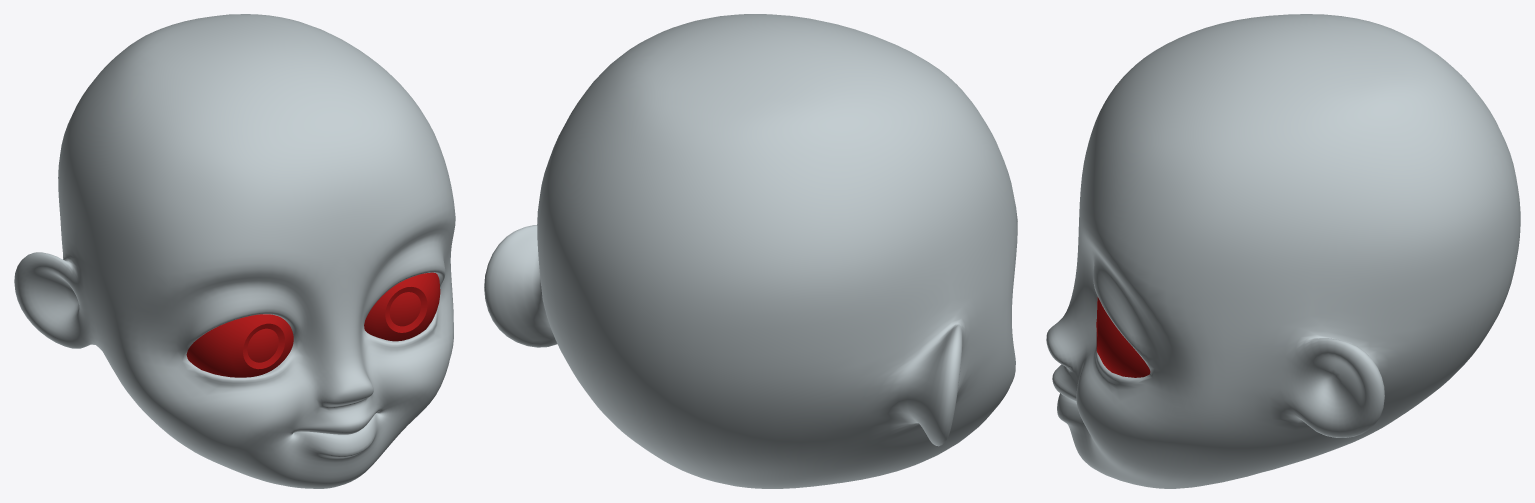
Rendered from head.obj.
3 views of the same model, side by side, from view 1: azimuth 30°, elevation 25°; view 2: azimuth 150°, elevation 25°; view 3: azimuth 270°, elevation 25° (orthographic). The views are drawn at different scales.
Parts seen in each view (by area): view 1: Plane02, eye_right, eye_left; view 2: Plane02; view 3: Plane02, eye_left.
Part boxes in pixels (<box>): Plane02: <box>14,14,455,488</box>; eye_right: <box>186,314,293,377</box>; eye_left: <box>364,272,440,341</box>; Plane02: <box>484,14,1017,488</box>; Plane02: <box>1046,14,1520,488</box>; eye_left: <box>1096,297,1150,377</box>.
Bounding box in the file's own units: 6.88 × 6.55 × 6.55.
